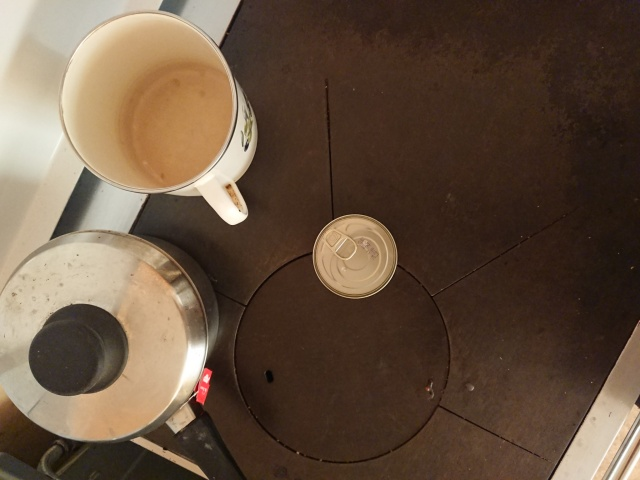Podravka Luncheon Meat 150g: (309, 211, 400, 301)
